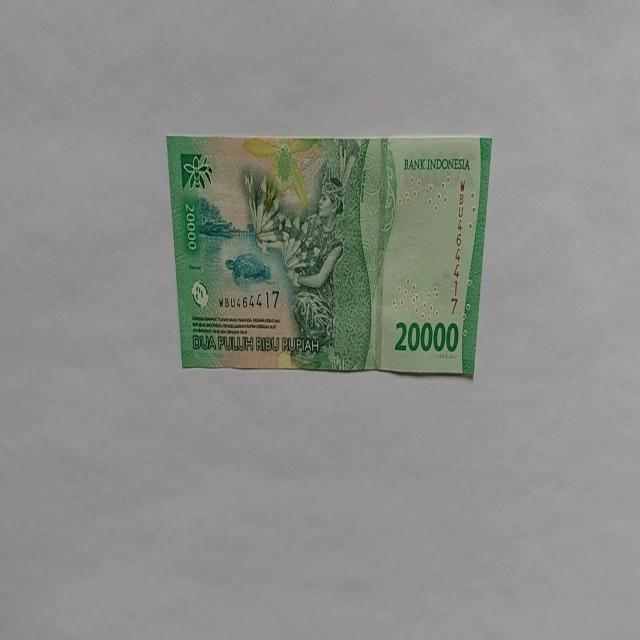dua puluh ribu rupiah: (166, 132, 492, 378)
